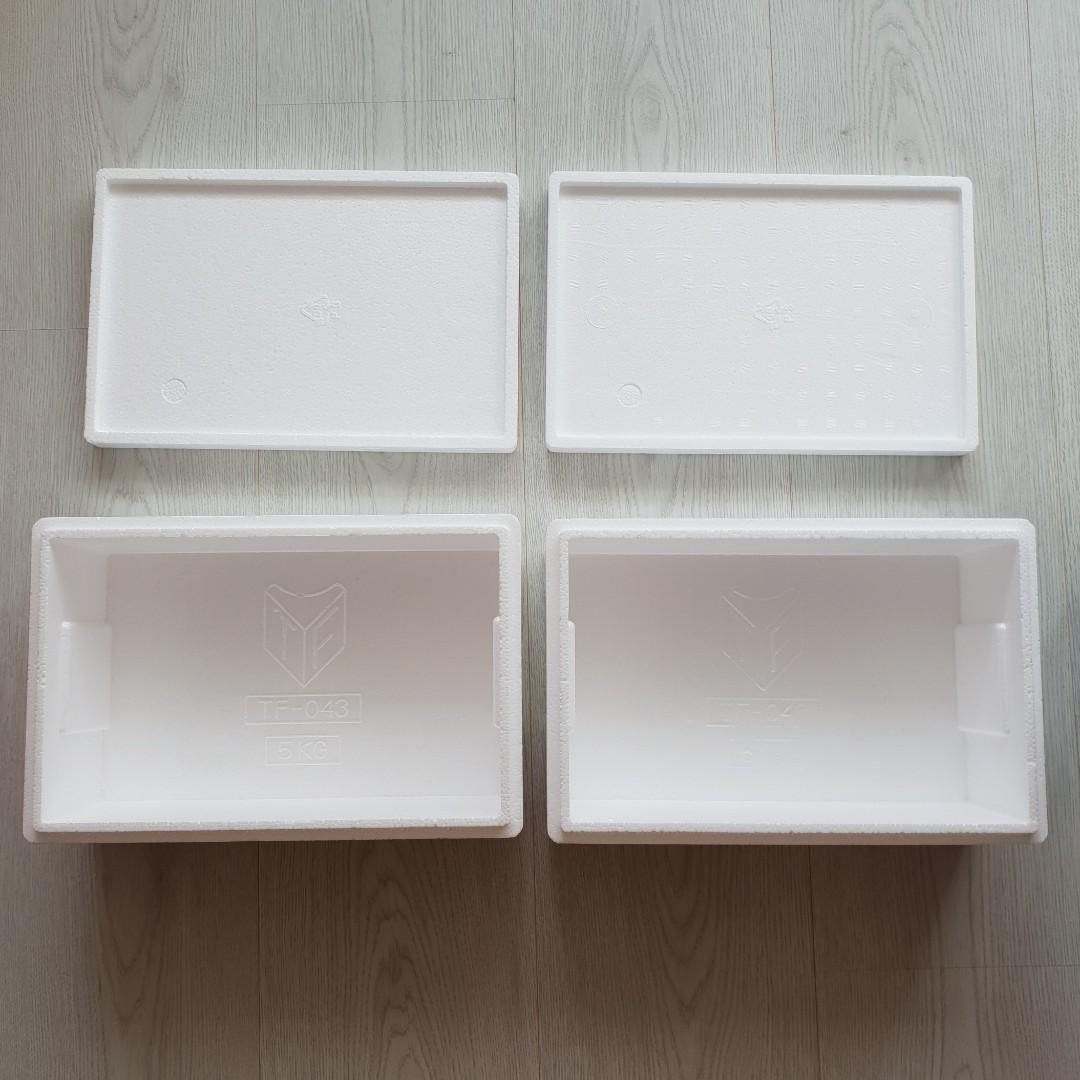Foam Box: (538, 512, 1056, 857), (9, 511, 527, 854), (537, 162, 990, 470), (75, 158, 528, 462)
